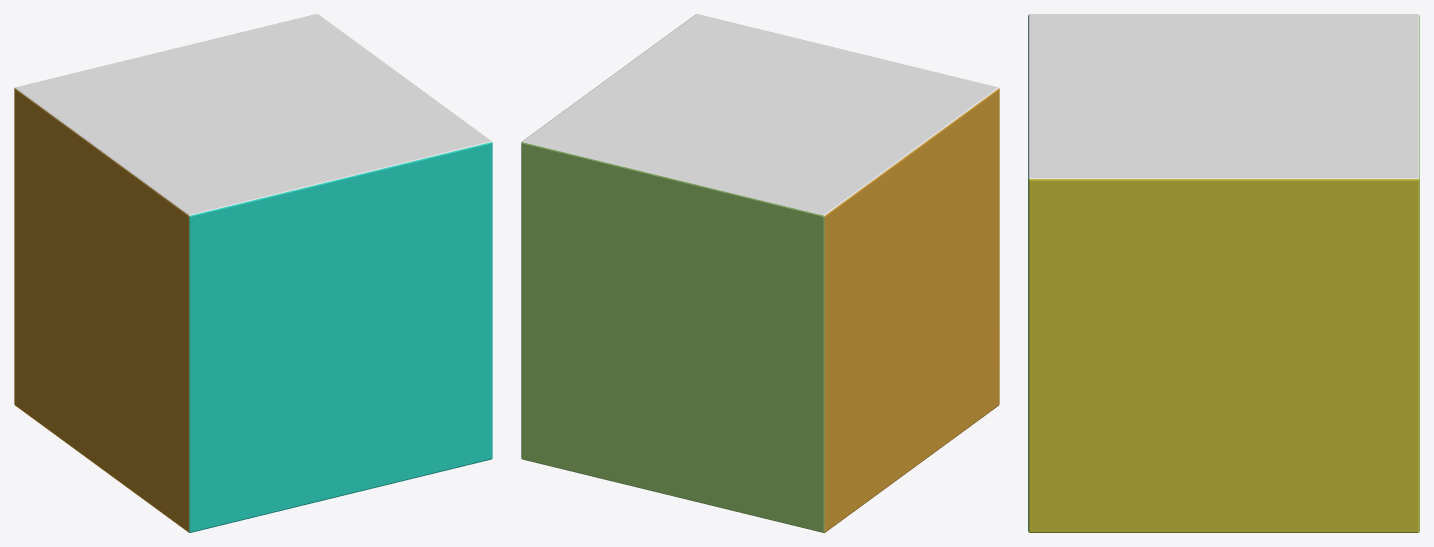
Rendered from Tanishq.glb.
3 renders of one model, left to right at view 1: azimuth 30°, elevation 25°; view 2: azimuth 150°, elevation 25°; view 3: azimuth 270°, elevation 25°, orthographic. The views are drawn at different scales.
Parts seen in each view (by area): view 1: Cube; view 2: Cube; view 3: Cube.
Part boxes in pixels (left/top/right/bottom): Cube: left=14, top=14, right=492, bottom=532; Cube: left=521, top=14, right=999, bottom=532; Cube: left=1028, top=14, right=1419, bottom=532.
Size of the model in its own units: 6.03 by 6.03 by 6.03.
